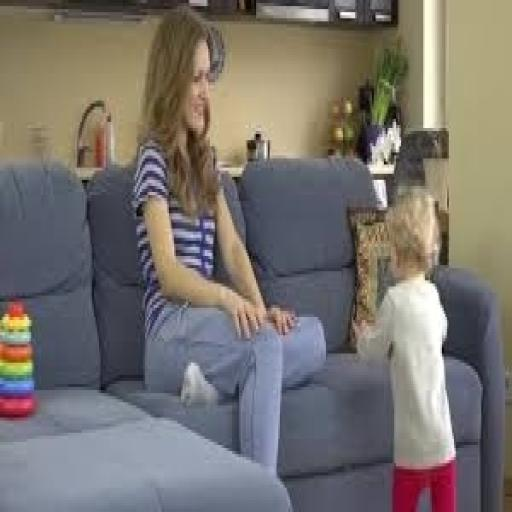sitting: (130, 6, 328, 472)
